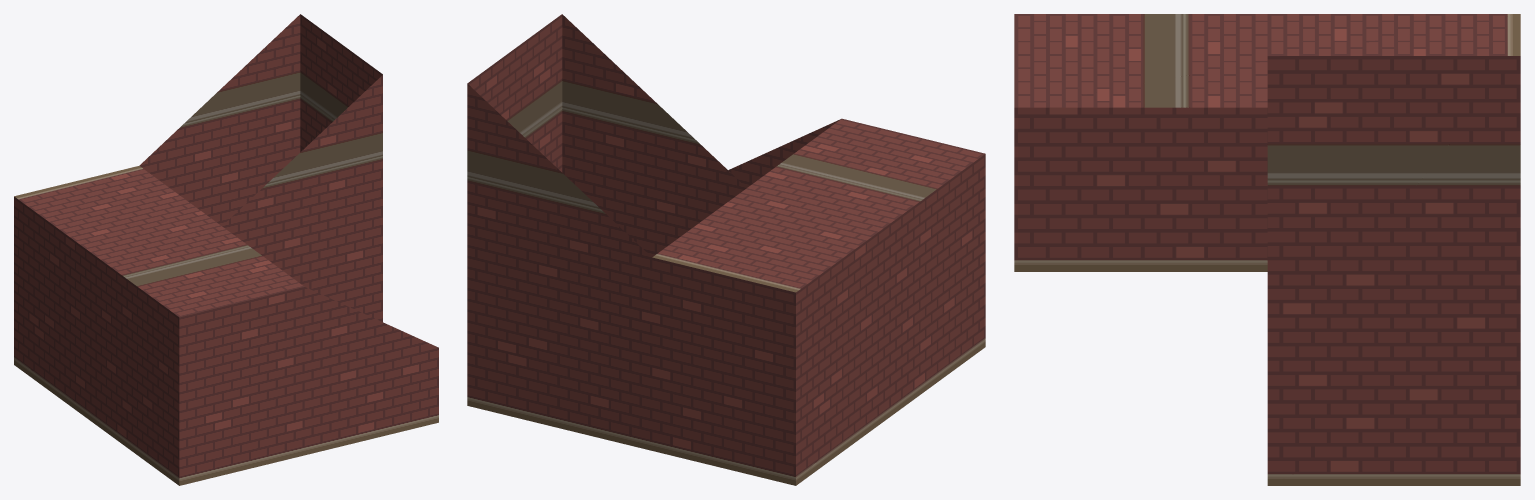
The model's file is SM_StairsU_01_blindTall.glb.
3 views of the same model, side by side, from view 1: azimuth 30°, elevation 25°; view 2: azimuth 150°, elevation 25°; view 3: azimuth 270°, elevation 25° (orthographic). The views are drawn at different scales.
Visible parts, largest first — view 1: SM_StairsU_01_blindTall; view 2: SM_StairsU_01_blindTall; view 3: SM_StairsU_01_blindTall.
Part boxes in pixels (left/top/right/bottom): SM_StairsU_01_blindTall: left=14, top=14, right=438, bottom=485; SM_StairsU_01_blindTall: left=467, top=14, right=985, bottom=485; SM_StairsU_01_blindTall: left=1014, top=14, right=1520, bottom=485.
Size of the model in its own units: 4 by 3.75 by 4.
Materials: 1 (1 with a texture image).
